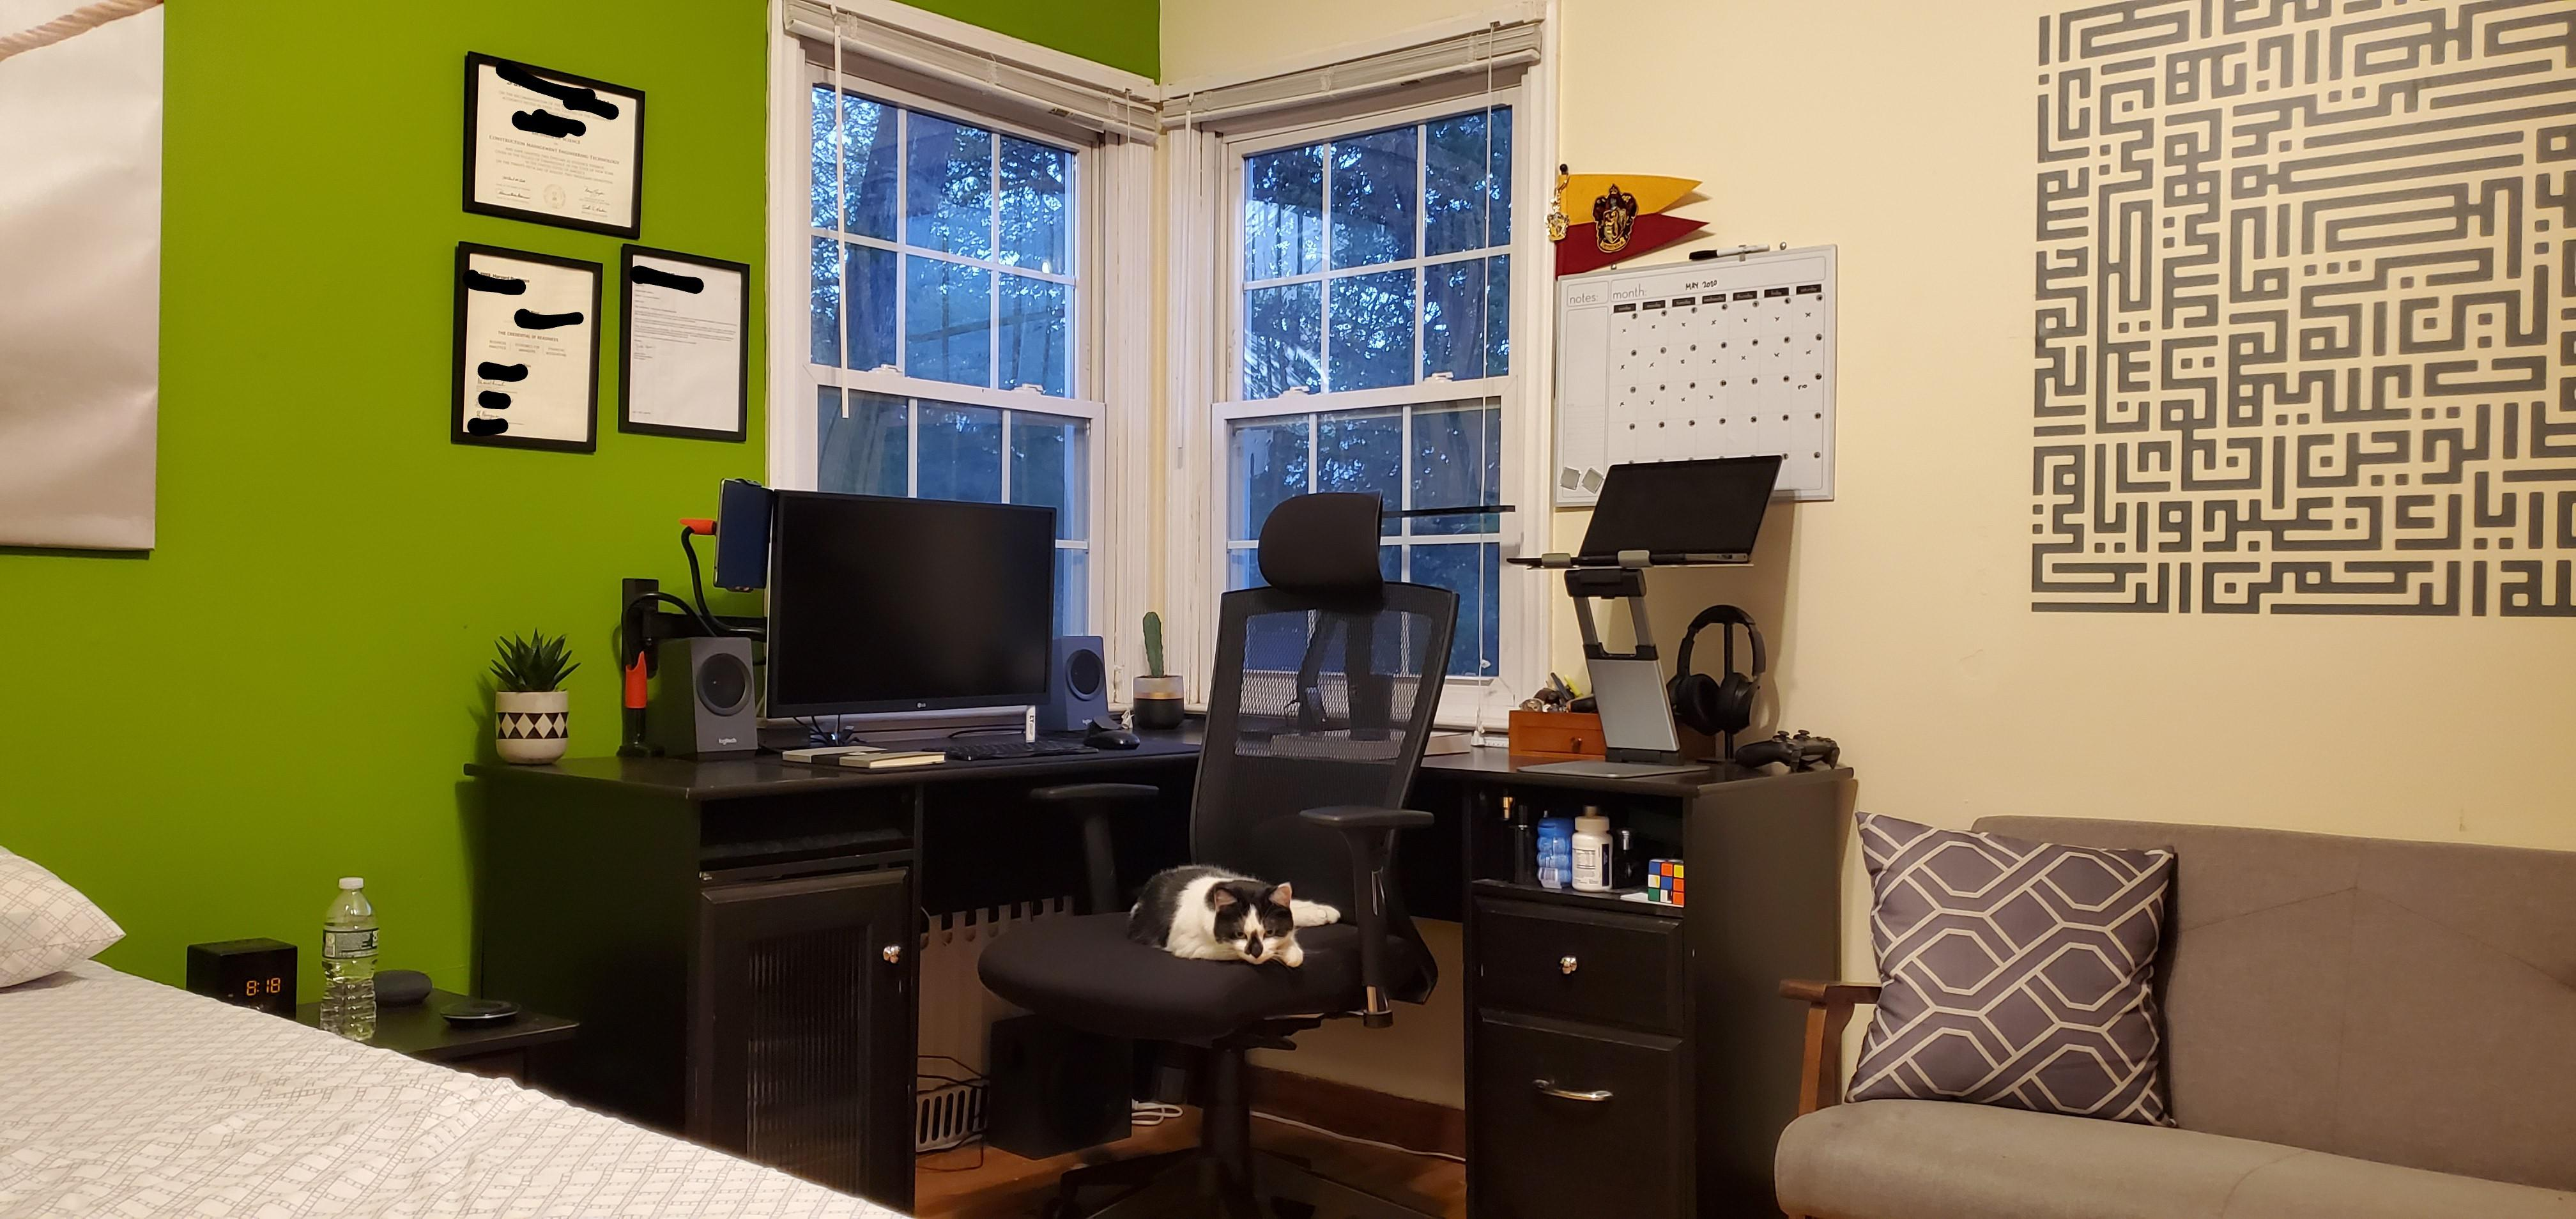Chair (Generic): (979, 493, 1460, 1214)
Decoration (Clock): (182, 936, 296, 1020)
Decoration (Generic): (1554, 163, 1840, 503)
Decoration (Plant): (490, 628, 582, 766), (1134, 613, 1184, 729)
Decoration (Rubric's Cube): (1646, 856, 1686, 905)
Desk (Generic): (467, 683, 1847, 943)
External Speakers (Generic): (657, 637, 757, 761), (1035, 636, 1109, 739)
Gaming Controller: (1736, 728, 1838, 770)
Headphones: (1674, 605, 1768, 736)
Keyboard (Generic): (927, 741, 1101, 767)
Laptop (Generic): (1506, 452, 1781, 563)
Laptop Stand: (1513, 547, 1756, 775)
Monitor (Landscape): (764, 488, 1058, 720)
Monitor Arm: (623, 578, 767, 767)
Mouse (Generic): (1086, 731, 1142, 751)
Mousepad (Gaming): (945, 739, 1204, 767)
Notebook: (782, 744, 946, 769)
Tablet (Generic): (713, 478, 767, 591)
Water Bottle: (319, 874, 378, 1043)
